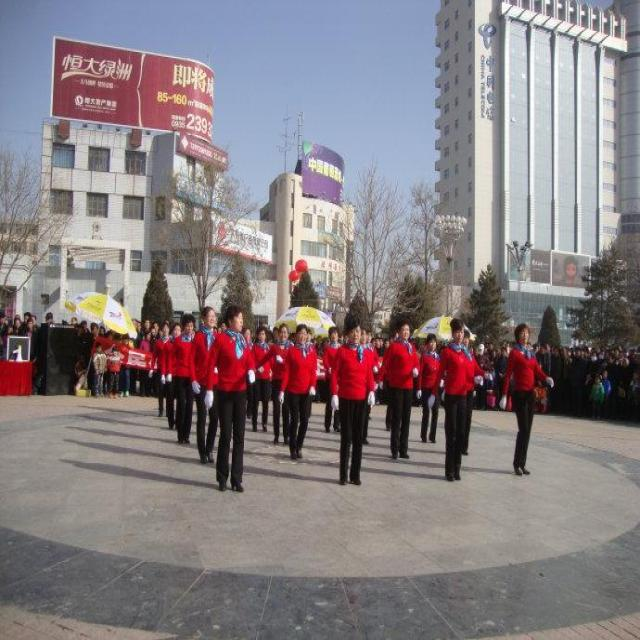non-fight: (203, 301, 256, 493), (326, 304, 378, 488), (432, 317, 480, 480), (502, 322, 549, 476), (275, 318, 320, 461), (380, 318, 418, 461), (162, 309, 198, 447)
